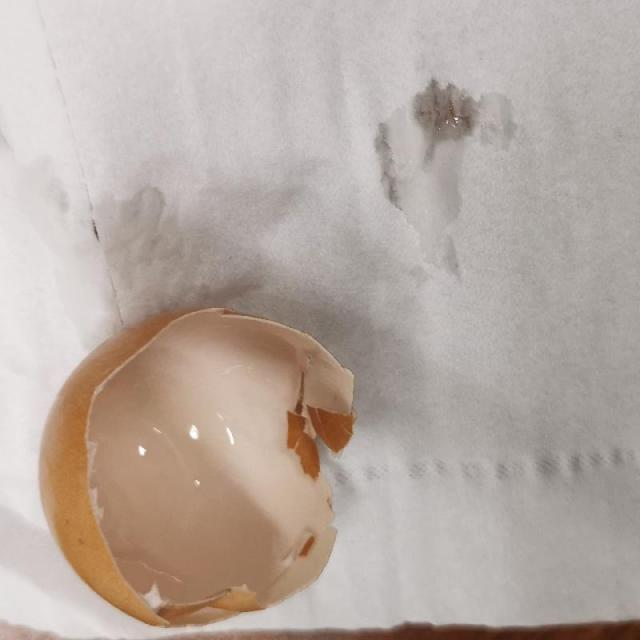egg shell: (34, 306, 361, 636)
